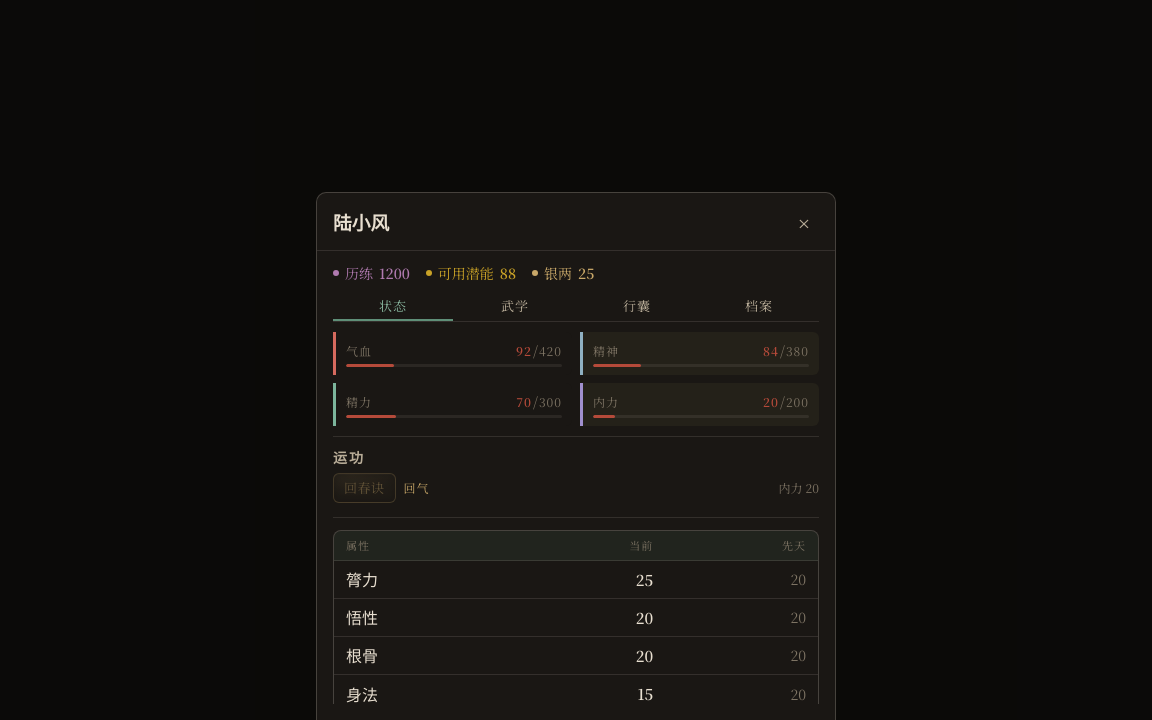
it: CharacterSheet（角色面板） › 武学页：基本功行保留名称、境界、等级三列
The image size is (1152, 720).
Click the tab "武学": [515, 307] box [455,293,575,321]
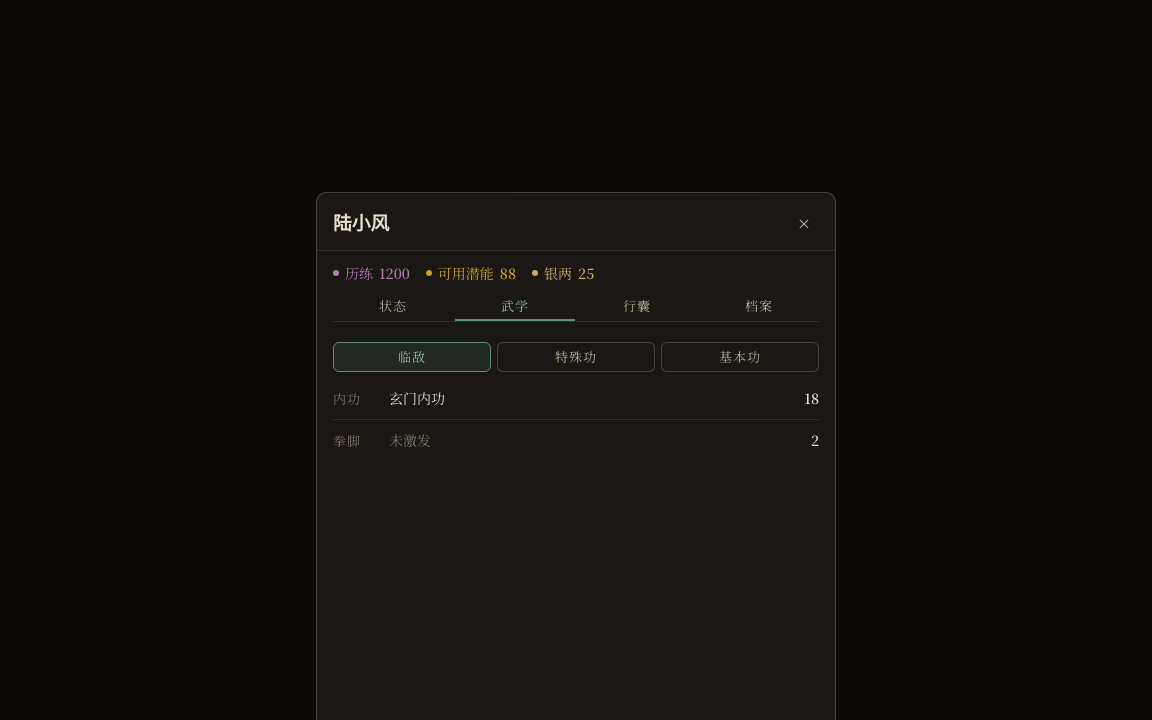
Click the tab "基本功": [740, 357] box [661,342,819,372]
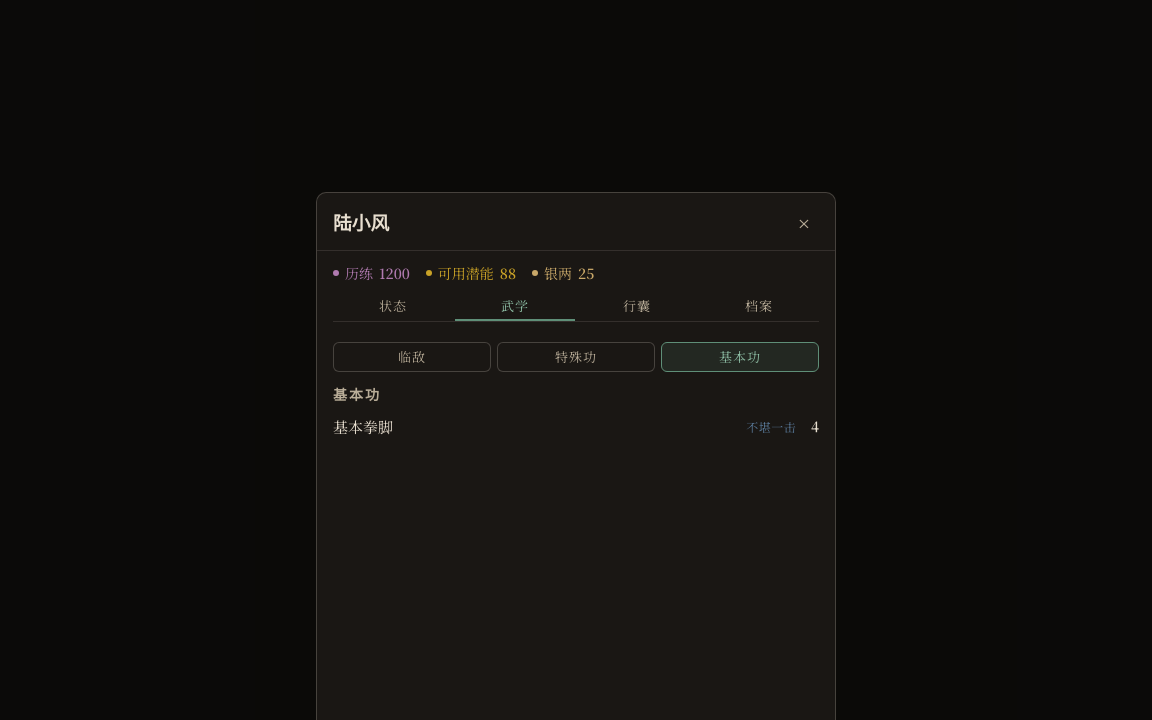
Result: the text "基本拳脚" is shown at [333,416,393,437]
Result: the text "不堪一击" is shown at [746,418,796,435]
Result: the text "4" is shown at [811,416,819,436]
